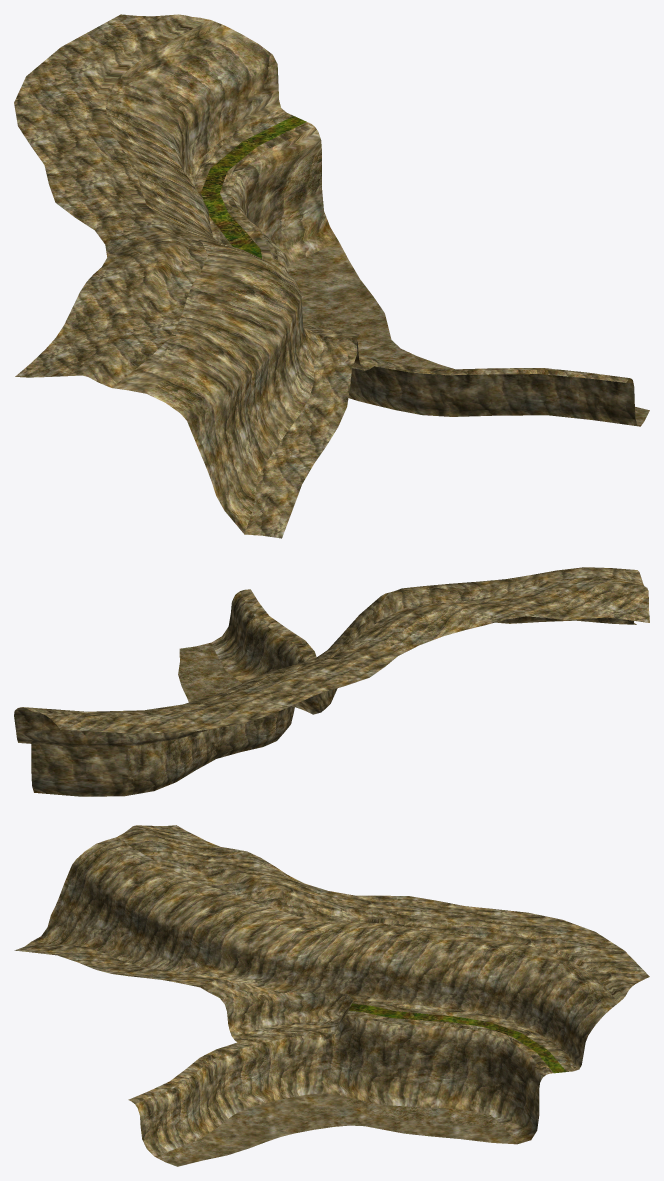
Rendered from RM_PLAYSURFACE_FINAL_OBJECT08.fbx.
The picture shows the model from 3 angles, top to bottom: view 1: azimuth 30°, elevation 25°; view 2: azimuth 150°, elevation 25°; view 3: azimuth 270°, elevation 25°; orthographic projection. The views are drawn at different scales.
Parts seen in each view (by area): view 1: RM_PLAYSURFACE_FINAL_OBJECT08; view 2: RM_PLAYSURFACE_FINAL_OBJECT08; view 3: RM_PLAYSURFACE_FINAL_OBJECT08.
Boxes of the visible parts, <box> form: RM_PLAYSURFACE_FINAL_OBJECT08: <box>14,14,649,538</box>; RM_PLAYSURFACE_FINAL_OBJECT08: <box>14,567,649,796</box>; RM_PLAYSURFACE_FINAL_OBJECT08: <box>14,825,649,1166</box>.
Bounding box in the file's own units: 378662 × 119636 × 479344.
5 materials, 5 textured.
